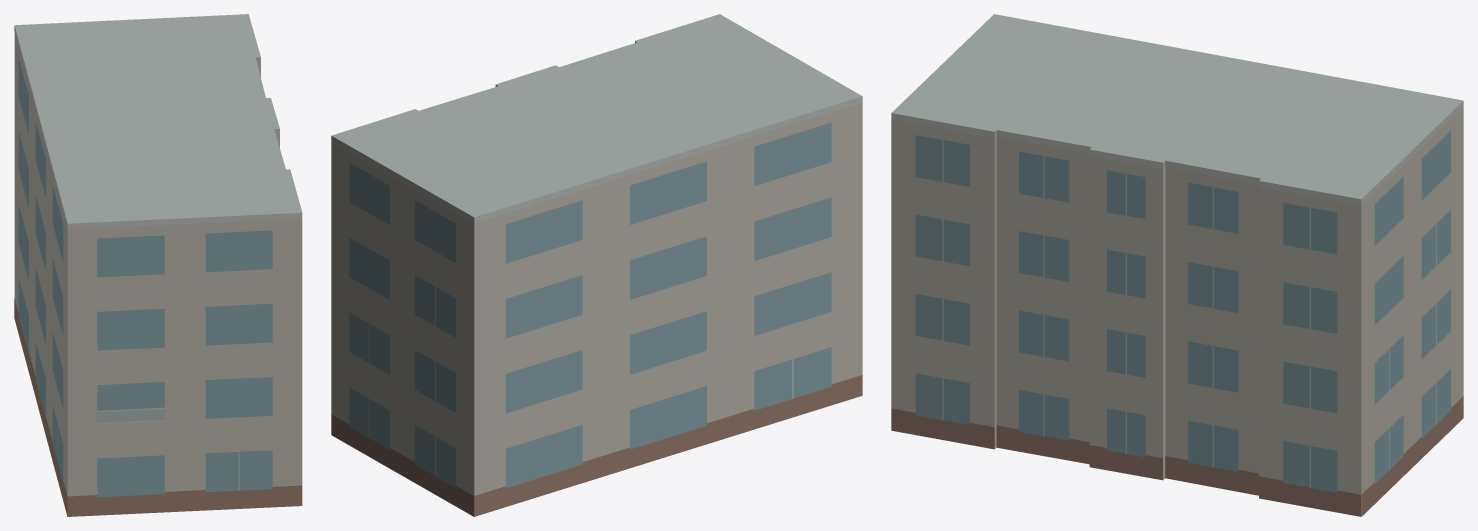
Rendered from survey-upis-32531285.glb.
3 renders of one model, left to right at view 1: azimuth 30°, elevation 25°; view 2: azimuth 150°, elevation 25°; view 3: azimuth 270°, elevation 25°, orthographic. The views are drawn at different scales.
Visible parts, largest first — view 1: survey-upis-32531285.tmp; view 2: survey-upis-32531285.tmp; view 3: survey-upis-32531285.tmp.
Boxes of the visible parts, x1,y1,x2,y2 form: survey-upis-32531285.tmp: (14, 14, 302, 516); survey-upis-32531285.tmp: (331, 14, 862, 516); survey-upis-32531285.tmp: (891, 14, 1463, 516).
Bounding box in the file's own units: 15.28 × 12.2 × 19.93.
